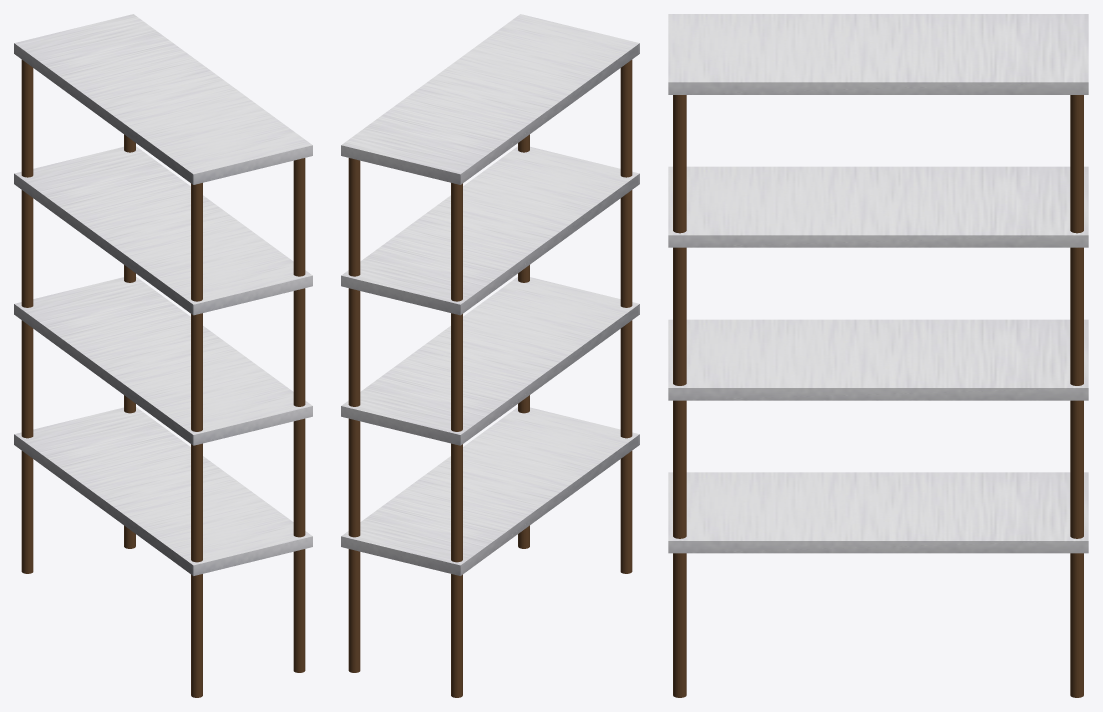
File: rack.dae
3 views of the same model, side by side, from view 1: azimuth 30°, elevation 25°; view 2: azimuth 150°, elevation 25°; view 3: azimuth 270°, elevation 25° (orthographic). The views are drawn at different scales.
Parts seen in each view (by area): view 1: Cube.003, Cube.002, Cube.001, Cube, Cylinder.001, Cylinder.003, Cylinder.002, Cylinder; view 2: Cube.003, Cube.002, Cube.001, Cube, Cylinder, Cylinder.002, Cylinder.003, Cylinder.001; view 3: Cube.003, Cube, Cube.001, Cube.002, Cylinder.001, Cylinder.
Boxes of the visible parts, x1,y1,x2,y2 form: Cube.003: [14, 14, 312, 184]; Cube.002: [14, 146, 312, 315]; Cube.001: [14, 277, 312, 445]; Cube: [14, 407, 312, 575]; Cylinder.001: [293, 158, 305, 672]; Cylinder.003: [21, 60, 33, 573]; Cylinder.002: [191, 183, 202, 697]; Cylinder: [124, 134, 135, 548]; Cube.003: [341, 14, 639, 184]; Cube.002: [341, 146, 639, 315]; Cube.001: [341, 277, 639, 445]; Cube: [341, 407, 639, 575]; Cylinder: [348, 158, 360, 672]; Cylinder.002: [620, 60, 632, 573]; Cylinder.003: [451, 183, 462, 697]; Cylinder.001: [518, 134, 529, 548]; Cube.003: [668, 14, 1088, 94]; Cube: [668, 472, 1088, 553]; Cube.001: [668, 319, 1088, 400]; Cube.002: [668, 166, 1088, 247]; Cylinder.001: [673, 95, 686, 697]; Cylinder: [1070, 95, 1083, 697].
Bounding box in the file's own units: 0.35 × 0.91 × 1.47.
2 materials, 1 textured.
